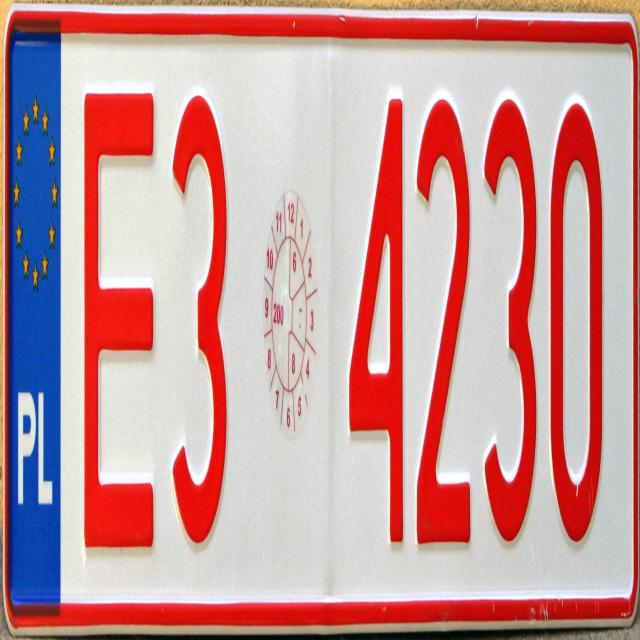pl_license_plate: (8, 28, 634, 596)
